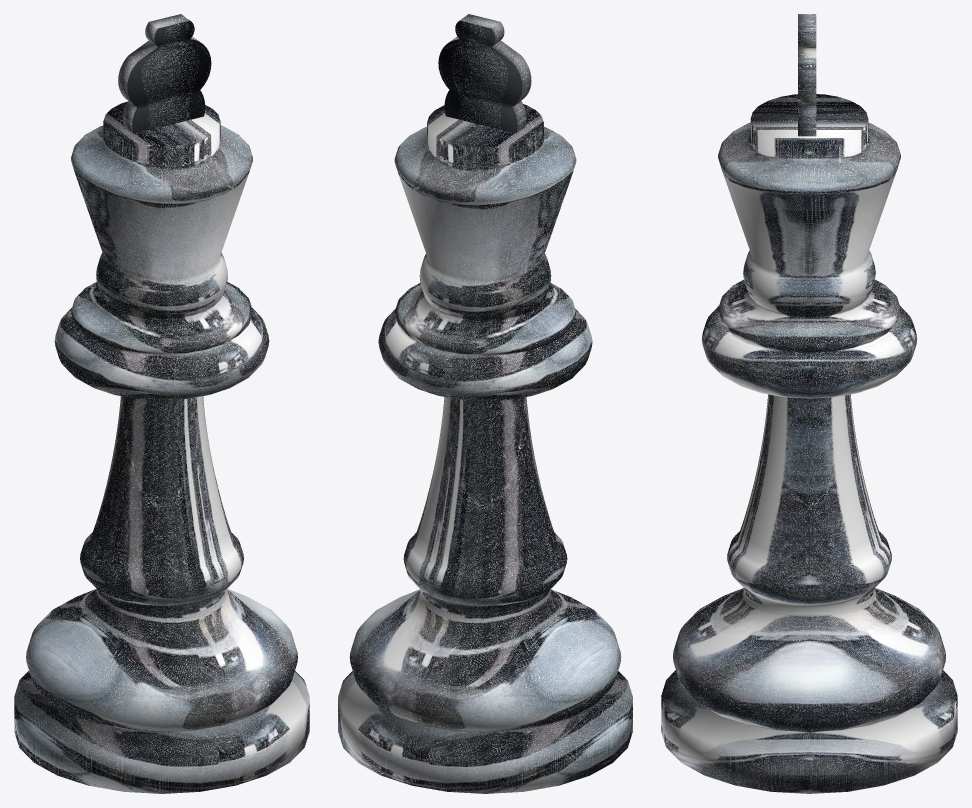
3 views of the same model, side by side, from view 1: azimuth 30°, elevation 25°; view 2: azimuth 150°, elevation 25°; view 3: azimuth 270°, elevation 25° (orthographic).
Visible parts, largest first — view 1: SketchUp (×3); view 2: SketchUp (×2); view 3: SketchUp (×2).
Part boxes in pixels (x1,y1,x2,y2): SketchUp (×3): (14,14,309,793); SketchUp (×2): (338,14,632,793); SketchUp (×2): (661,14,957,793).
Bounding box in the file's own units: 4.93 × 4.93 × 13.06.
2 materials, 2 textured.
